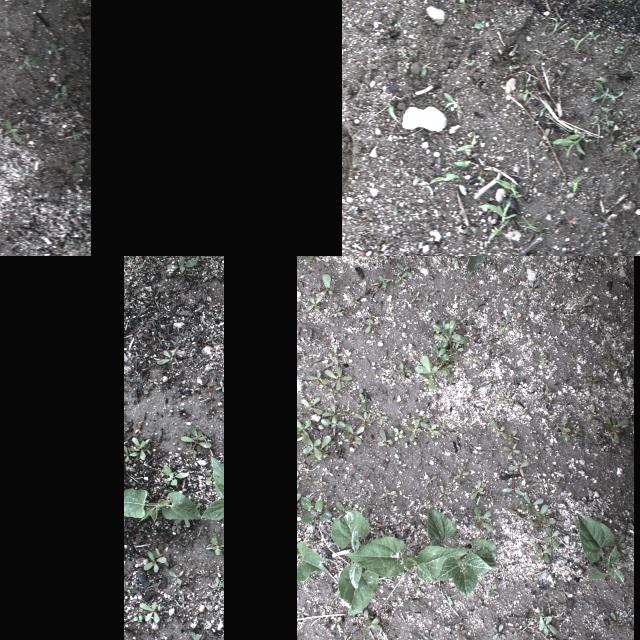crop: (426, 506, 502, 598), (344, 536, 474, 580), (330, 510, 378, 612), (576, 514, 632, 584), (123, 488, 201, 534), (202, 454, 224, 537), (445, 256, 508, 279), (296, 540, 324, 580)
weed: (478, 195, 518, 242), (413, 346, 452, 390), (432, 318, 468, 354), (552, 128, 590, 158), (180, 424, 212, 456), (299, 496, 331, 522), (162, 462, 190, 488), (591, 80, 623, 102), (306, 433, 330, 462), (602, 418, 630, 442), (324, 367, 352, 389), (492, 177, 522, 196), (527, 504, 555, 524), (142, 550, 166, 572), (18, 53, 44, 73), (341, 423, 364, 445), (362, 608, 380, 636), (163, 256, 198, 270), (138, 600, 160, 622), (314, 274, 336, 296), (301, 435, 321, 459), (474, 507, 494, 531), (127, 436, 145, 462), (537, 614, 557, 634), (520, 214, 542, 232), (530, 544, 552, 562), (507, 458, 529, 476), (300, 397, 322, 415), (543, 527, 559, 551), (205, 535, 224, 555), (546, 15, 568, 32), (322, 402, 348, 416), (429, 172, 459, 184), (559, 412, 571, 442), (419, 421, 441, 437), (49, 40, 66, 60), (456, 134, 476, 150), (155, 349, 175, 365), (376, 486, 396, 502), (392, 362, 412, 378), (5, 120, 19, 142), (521, 494, 543, 508), (408, 418, 422, 440), (353, 410, 372, 426), (617, 134, 640, 147), (296, 418, 310, 439), (320, 415, 344, 427), (376, 428, 392, 446), (502, 442, 520, 458), (491, 420, 507, 438), (364, 318, 382, 334), (54, 82, 68, 102), (306, 371, 326, 385), (330, 344, 344, 364), (501, 482, 524, 494), (123, 443, 137, 462), (498, 314, 510, 336), (168, 568, 184, 584), (525, 276, 541, 292), (419, 60, 433, 78), (394, 262, 412, 276), (573, 298, 593, 310), (470, 479, 482, 498), (443, 92, 457, 108), (570, 36, 586, 50), (492, 624, 506, 640), (306, 296, 322, 310), (185, 628, 203, 640), (452, 467, 470, 479), (296, 606, 310, 620), (209, 575, 224, 588), (453, 622, 465, 638), (506, 428, 518, 444), (571, 174, 581, 192), (609, 612, 619, 630), (628, 146, 640, 160), (330, 303, 342, 317), (462, 223, 478, 233), (357, 388, 365, 408), (453, 340, 463, 356), (72, 237, 82, 251), (214, 379, 224, 393), (330, 616, 340, 630), (422, 475, 436, 485), (438, 485, 448, 499), (76, 157, 86, 170), (386, 102, 394, 118), (522, 89, 534, 99), (394, 272, 406, 282), (604, 128, 612, 142), (378, 274, 386, 288), (513, 251, 535, 256), (532, 477, 542, 488), (488, 584, 497, 596), (303, 256, 320, 262), (393, 427, 403, 437), (377, 414, 387, 424), (452, 160, 468, 166), (588, 32, 600, 40), (408, 292, 420, 300), (538, 105, 546, 115), (616, 46, 624, 54), (71, 129, 77, 139), (466, 60, 476, 66), (192, 256, 210, 259), (604, 10, 610, 18), (477, 175, 485, 181), (396, 20, 402, 28), (80, 51, 86, 58), (451, 0, 465, 3), (606, 120, 612, 126), (394, 205, 398, 213), (598, 48, 602, 52), (448, 46, 452, 50)
